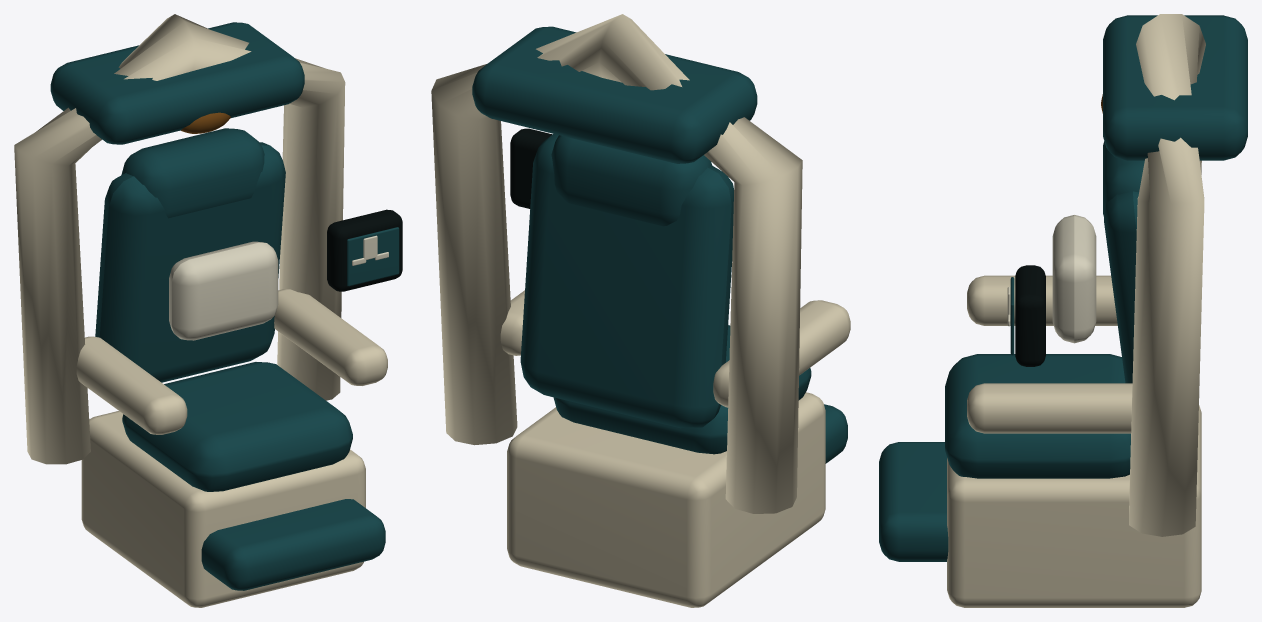
Rendered from recovery.glb.
3 renders of one model, left to right at view 1: azimuth 30°, elevation 25°; view 2: azimuth 150°, elevation 25°; view 3: azimuth 270°, elevation 25°, orthographic. The views are drawn at different scales.
Visible parts, largest first — view 1: Apparatus; view 2: Apparatus; view 3: Apparatus.
Part boxes in pixels (bbox=[...]): Apparatus: bbox=[14, 14, 402, 607]; Apparatus: bbox=[431, 14, 850, 607]; Apparatus: bbox=[879, 14, 1247, 607].
Bounding box in the file's own units: 0.931 × 1.39 × 0.84.
